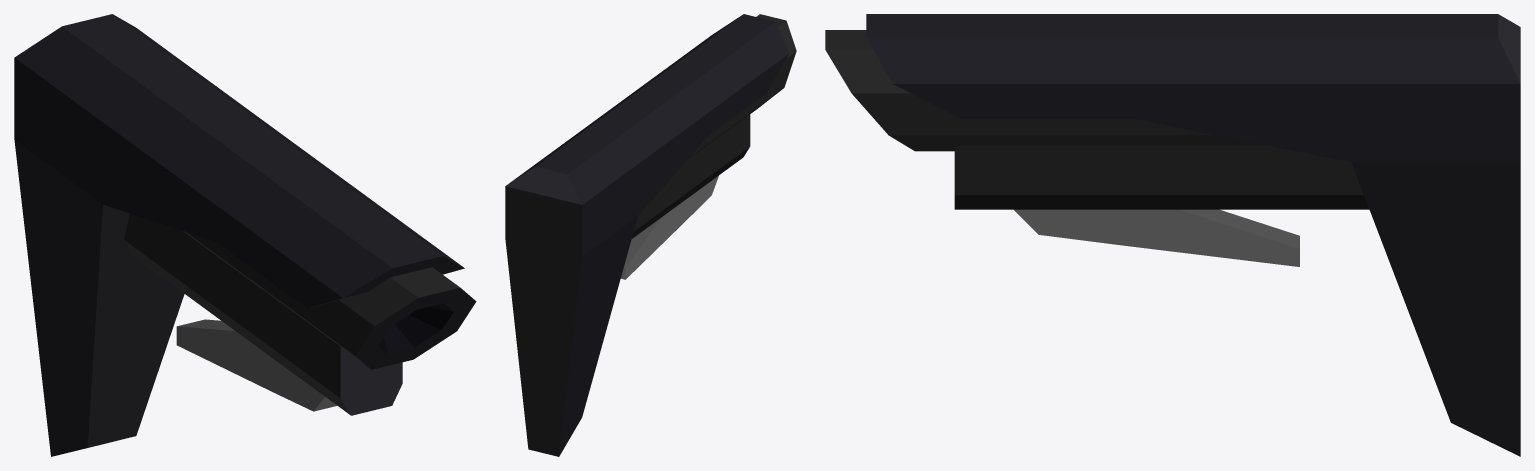
The model's file is MW1_Stock_Rod_02.fbx.
The picture shows the model from 3 angles, left to right: view 1: azimuth 30°, elevation 25°; view 2: azimuth 150°, elevation 25°; view 3: azimuth 270°, elevation 25°; orthographic projection. The views are drawn at different scales.
Visible parts, largest first — view 1: Stock_Rod_02; view 2: Stock_Rod_02; view 3: Stock_Rod_02.
Part boxes in pixels (x1,y1,x2,y2): Stock_Rod_02: (14, 14, 476, 456); Stock_Rod_02: (505, 14, 796, 456); Stock_Rod_02: (825, 14, 1520, 456).
Size of the model in its own units: 3.84 by 13.22 by 19.84.
